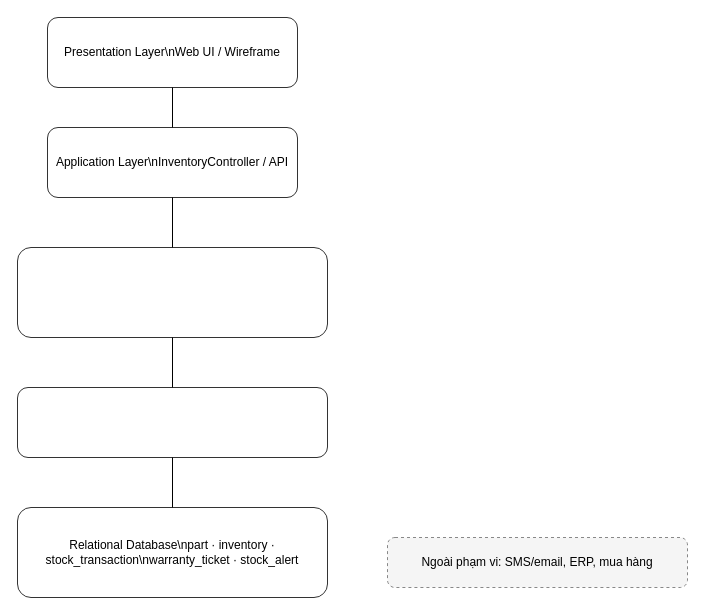
Some shapes in this 705 by 615 pixel diagram are drawn without their labels. The shapes that lost their labels are listed below. From the top down, each one's centre as x and y in pixels, then its label:
At (x=172, y=292): "Business Layer\nStockService · AlertService\nValidation / Authorization".
At (x=172, y=422): "Data Access Layer\nInventoryRepository · TransactionRepository".
